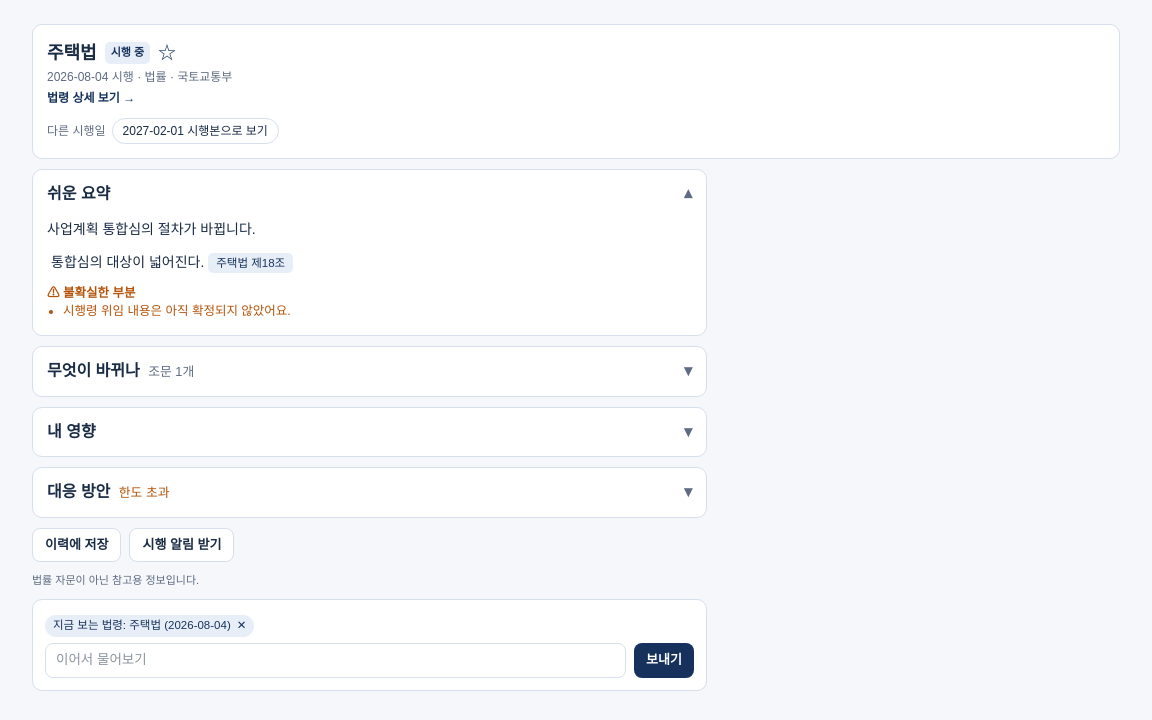
Test case: ResultView — 대응 방안 상황 확인(D71) › 대응 방안 unmet 응답도 저장된 옛 revision 을 되살리지 않는다 — 미충족 안내
This screenshot has width=1152, height=720.
Click the button "대응 방안 한도 초과 ▾" at (79, 492), box [33,468,706,517]
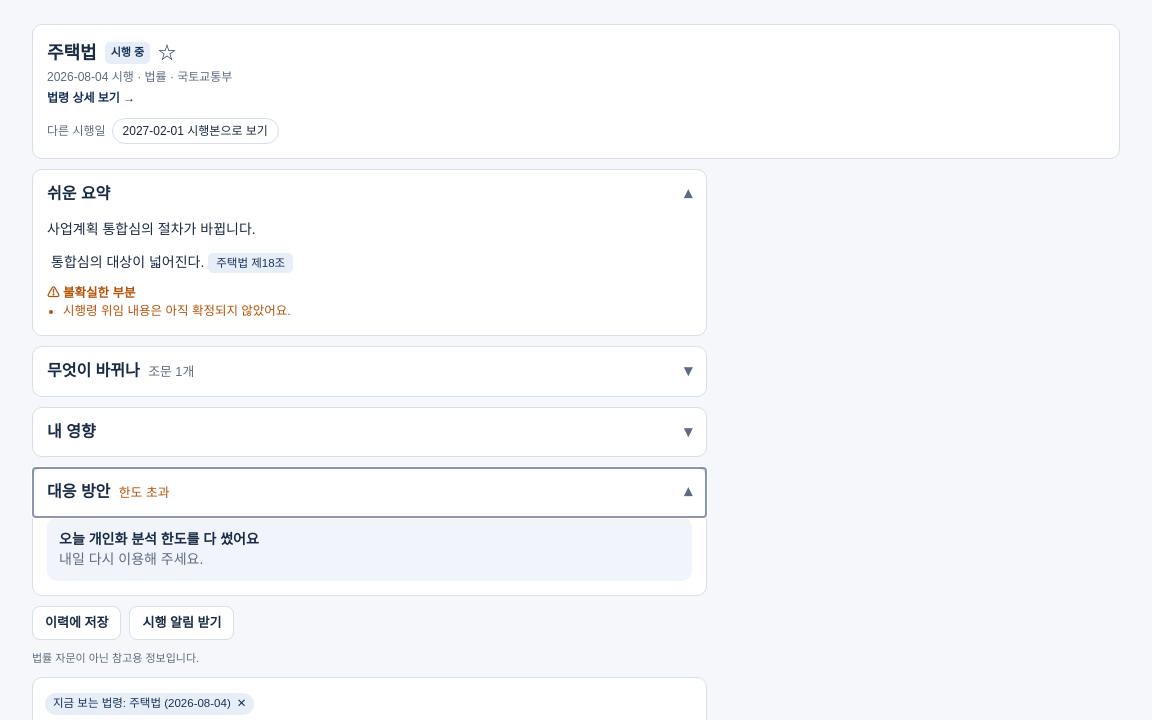
Expected: the text "오늘 개인화 분석 한도를 다 썼어요" is shown, [59,531,259,547]
